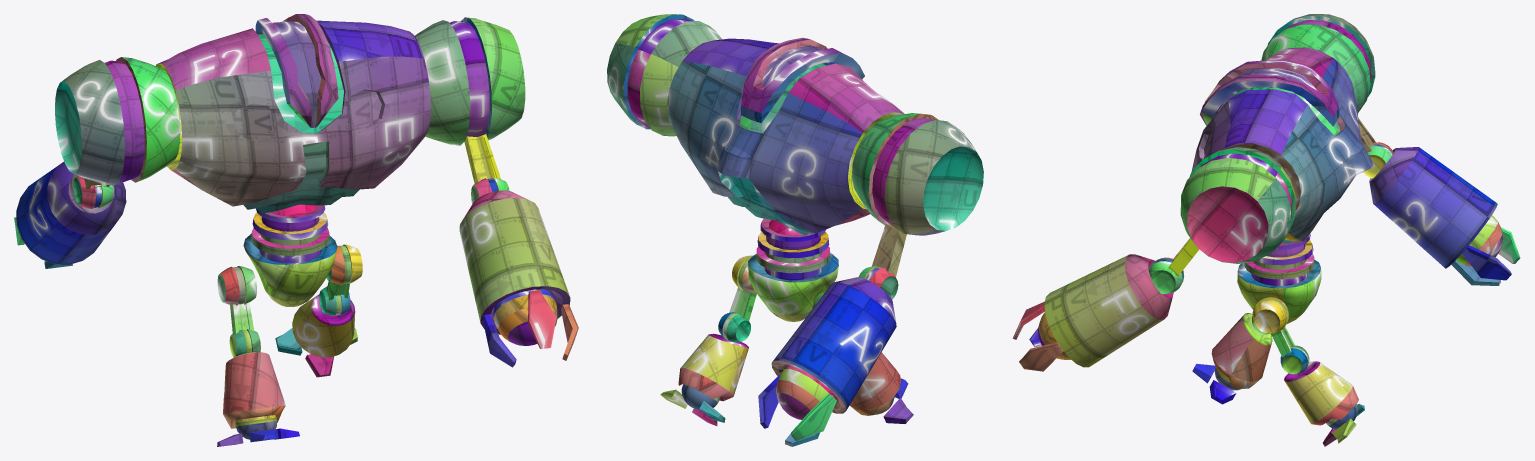
Rendered from Robot.obj.
The picture shows the model from 3 angles, left to right: view 1: azimuth 30°, elevation 25°; view 2: azimuth 150°, elevation 25°; view 3: azimuth 270°, elevation 25°; orthographic projection. The views are drawn at different scales.
Visible parts, largest first — view 1: Chest, Chest RShoulder, Chest LShoulder, Chest LShoulder LUpperArm LElbow1 LForearm, Chest Torso2, Chest RShoulder RUpperArm RElbow RForearm, Chest Head2, initialShadingGroup Chest LShoulder LUpperArm LElbow1 LForearm L, Chest Torso2 Rhip RThigh RKnee RCalve, Chest Torso2 LHip LThigh LKnee LCalve, Chest Torso2 Rhip RThigh RKnee RCalve RFoot, Chest Torso2 Rhip (+7 smaller); view 2: Chest, Chest RShoulder, Chest RShoulder RUpperArm RElbow RForearm, Chest LShoulder, Chest Torso2, Chest Head2, initialShadingGroup Chest RShoulder RUpperArm RElbow RForearm RH, Chest Torso2 LHip LThigh LKnee LCalve, Chest Torso2 Rhip RThigh RKnee RCalve, Chest Torso2 LHip LThigh LKnee LCalve LFoot, Chest RShoulder RUpperArm, Chest Torso2 LHip LThigh LKnee (+4 smaller); view 3: Chest, Chest LShoulder, Chest LShoulder LUpperArm LElbow1 LForearm, Chest RShoulder RUpperArm RElbow RForearm, Chest RShoulder, Chest Torso2, Chest Head2, Chest Torso2 LHip LThigh LKnee LCalve, Chest Torso2 Rhip RThigh RKnee RCalve, initialShadingGroup Chest RShoulder RUpperArm RElbow RForearm RH, initialShadingGroup Chest LShoulder LUpperArm LElbow1 LForearm L, Chest Torso2 LHip (+6 smaller).
Part boxes in pixels (x1,y1,x2,y2): Chest: [156, 20, 430, 213]; Chest RShoulder: [55, 57, 180, 185]; Chest LShoulder: [415, 17, 525, 145]; Chest LShoulder LUpperArm LElbow1 LForearm: [459, 190, 570, 334]; Chest Torso2: [243, 204, 337, 306]; Chest RShoulder RUpperArm RElbow RForearm: [16, 161, 126, 264]; Chest Head2: [255, 14, 338, 127]; initialShadingGroup Chest LShoulder LUpperArm LElbow1 LForearm L: [483, 289, 578, 367]; Chest Torso2 Rhip RThigh RKnee RCalve: [223, 352, 285, 428]; Chest Torso2 LHip LThigh LKnee LCalve: [292, 294, 355, 357]; Chest Torso2 Rhip RThigh RKnee RCalve RFoot: [217, 415, 299, 446]; Chest Torso2 Rhip: [217, 266, 256, 305]; Chest: [667, 38, 904, 235]; Chest RShoulder: [851, 113, 983, 235]; Chest RShoulder RUpperArm RElbow RForearm: [771, 277, 896, 413]; Chest LShoulder: [607, 14, 721, 136]; Chest Torso2: [748, 218, 838, 321]; Chest Head2: [741, 37, 864, 123]; initialShadingGroup Chest RShoulder RUpperArm RElbow RForearm RH: [758, 365, 836, 446]; Chest Torso2 LHip LThigh LKnee LCalve: [678, 333, 748, 401]; Chest Torso2 Rhip RThigh RKnee RCalve: [849, 352, 900, 415]; Chest Torso2 LHip LThigh LKnee LCalve LFoot: [660, 384, 725, 425]; Chest RShoulder RUpperArm: [872, 223, 906, 276]; Chest Torso2 LHip LThigh LKnee: [718, 312, 750, 342]; Chest: [1191, 47, 1372, 243]; Chest LShoulder: [1180, 147, 1295, 263]; Chest LShoulder LUpperArm LElbow1 LForearm: [1044, 254, 1173, 367]; Chest RShoulder RUpperArm RElbow RForearm: [1369, 147, 1497, 268]; Chest RShoulder: [1261, 14, 1375, 112]; Chest Torso2: [1237, 233, 1321, 324]; Chest Head2: [1200, 60, 1339, 126]; Chest Torso2 LHip LThigh LKnee LCalve: [1284, 361, 1358, 425]; Chest Torso2 Rhip RThigh RKnee RCalve: [1211, 313, 1272, 388]; initialShadingGroup Chest RShoulder RUpperArm RElbow RForearm RH: [1451, 215, 1520, 285]; initialShadingGroup Chest LShoulder LUpperArm LElbow1 LForearm L: [1012, 301, 1071, 371]; Chest Torso2 LHip: [1252, 297, 1288, 333].
Bounding box in the file's own units: 4.37 × 3.99 × 5.26.
1 material, 1 textured.
